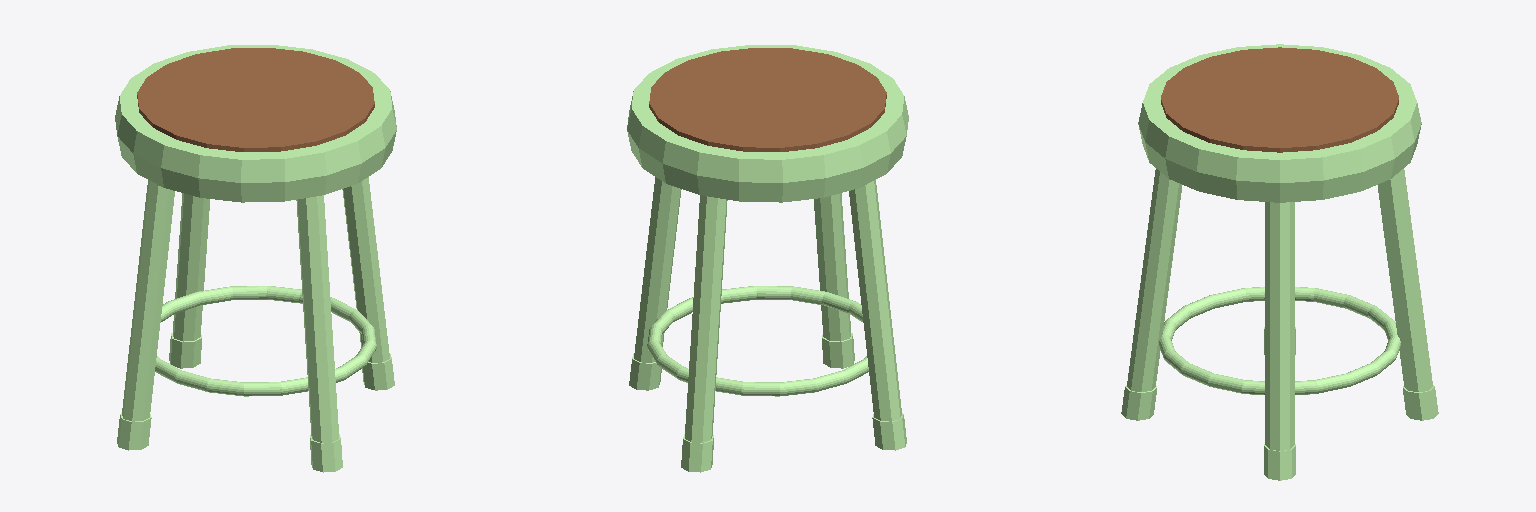
File: stooltexture.obj
The picture shows the model from 3 angles: view 1: azimuth 30°, elevation 25°; view 2: azimuth 150°, elevation 25°; view 3: azimuth 270°, elevation 25°; orthographic projection.
Visible parts, largest first — view 1: group pasted__pasted__pCylinder1 pasted__stooltop, group pasted__stoolseat, pasted__leg7 group, group pasted__leg5, group pasted__roundthing, group pasted__leg4, group pasted__leg6; view 2: group pasted__pasted__pCylinder1 pasted__stooltop, group pasted__stoolseat, group pasted__leg6, group pasted__leg5, group pasted__roundthing, group pasted__leg4, pasted__leg7 group; view 3: group pasted__pasted__pCylinder1 pasted__stooltop, group pasted__stoolseat, group pasted__leg4, pasted__leg7 group, group pasted__leg6, group pasted__roundthing.
Part boxes in pixels (x1,y1,x2,y2): group pasted__pasted__pCylinder1 pasted__stooltop: (137, 48, 374, 151); group pasted__stoolseat: (115, 45, 396, 202); pasted__leg7 group: (296, 195, 342, 472); group pasted__leg5: (117, 180, 174, 450); group pasted__roundthing: (155, 286, 376, 396); group pasted__leg4: (342, 177, 394, 390); group pasted__leg6: (169, 193, 209, 368); group pasted__pasted__pCylinder1 pasted__stooltop: (649, 48, 886, 151); group pasted__stoolseat: (627, 45, 908, 202); group pasted__leg6: (681, 195, 727, 472); group pasted__leg5: (849, 180, 906, 450); group pasted__roundthing: (647, 286, 868, 396); group pasted__leg4: (629, 177, 681, 390); pasted__leg7 group: (814, 193, 854, 368); group pasted__pasted__pCylinder1 pasted__stooltop: (1161, 47, 1398, 152); group pasted__stoolseat: (1138, 44, 1421, 202); group pasted__leg4: (1264, 202, 1295, 480); pasted__leg7 group: (1121, 169, 1181, 420); group pasted__leg6: (1378, 169, 1438, 420); group pasted__roundthing: (1159, 287, 1400, 394).
Size of the model in its own units: 60.67 by 66.72 by 60.67.